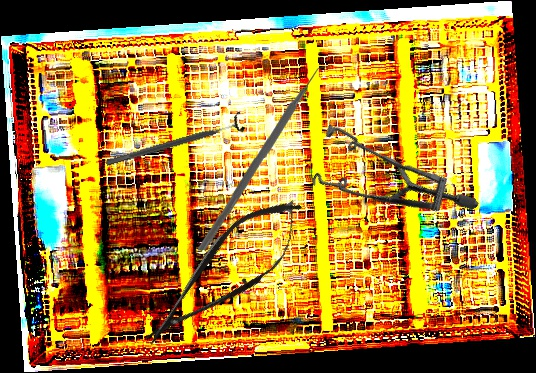Chopper: (196, 64, 340, 253)
Fixation Ring: (102, 110, 247, 174)
Micro Scissor: (127, 181, 321, 366)
Speculum: (290, 83, 480, 278)
